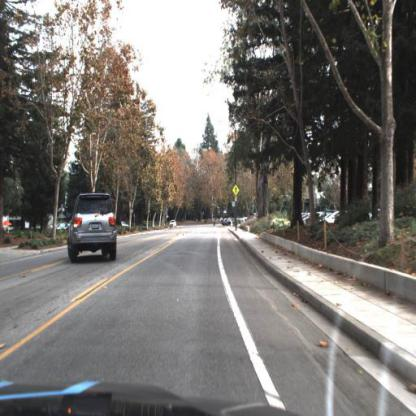car: (67, 191, 119, 264), (168, 218, 178, 230)
